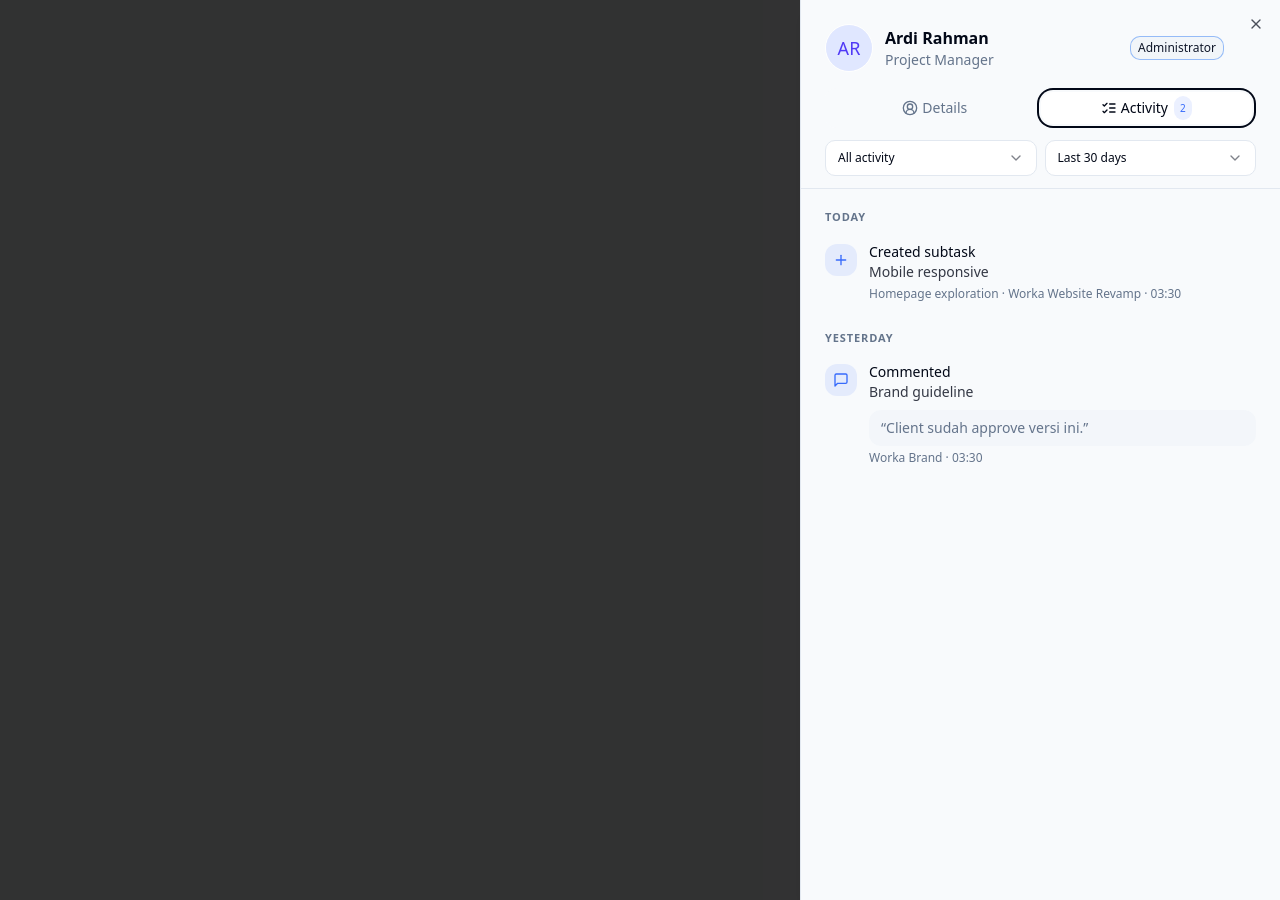
it: TeamMemberDetailsSheet › opens on activity, shows subtask context, and exposes member details in its tab
Expected: the heading "Ardi Rahman" is shown, [885,27,989,49]
Expected: the text "Created subtask" is shown, [869,242,975,260]
Click the tab "Details" at (935, 108), box [829,92,1040,124]
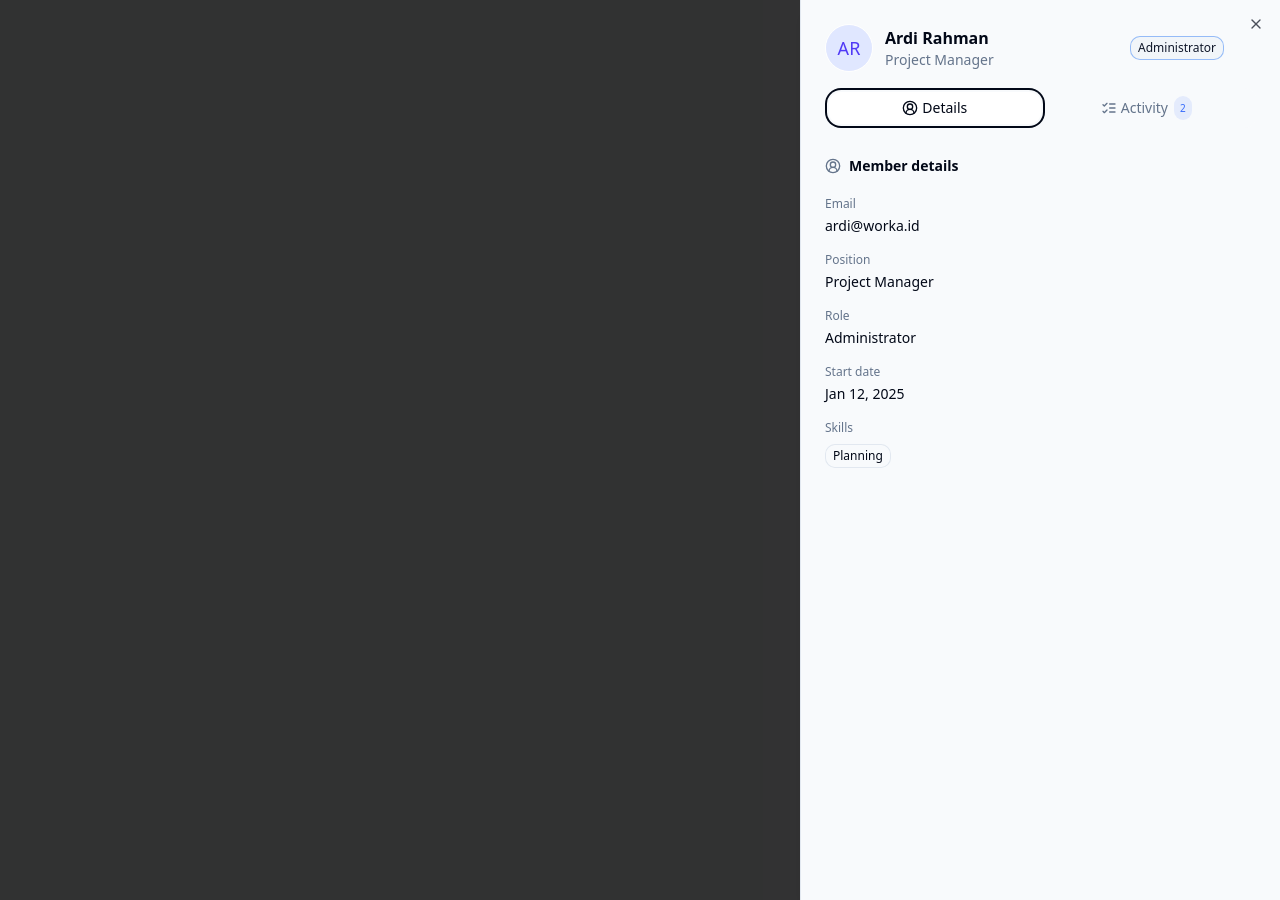
Now the text "ardi@worka.id" is shown, box [825,216,920,235]
Now the text "Planning" is shown, box [825,444,891,468]
